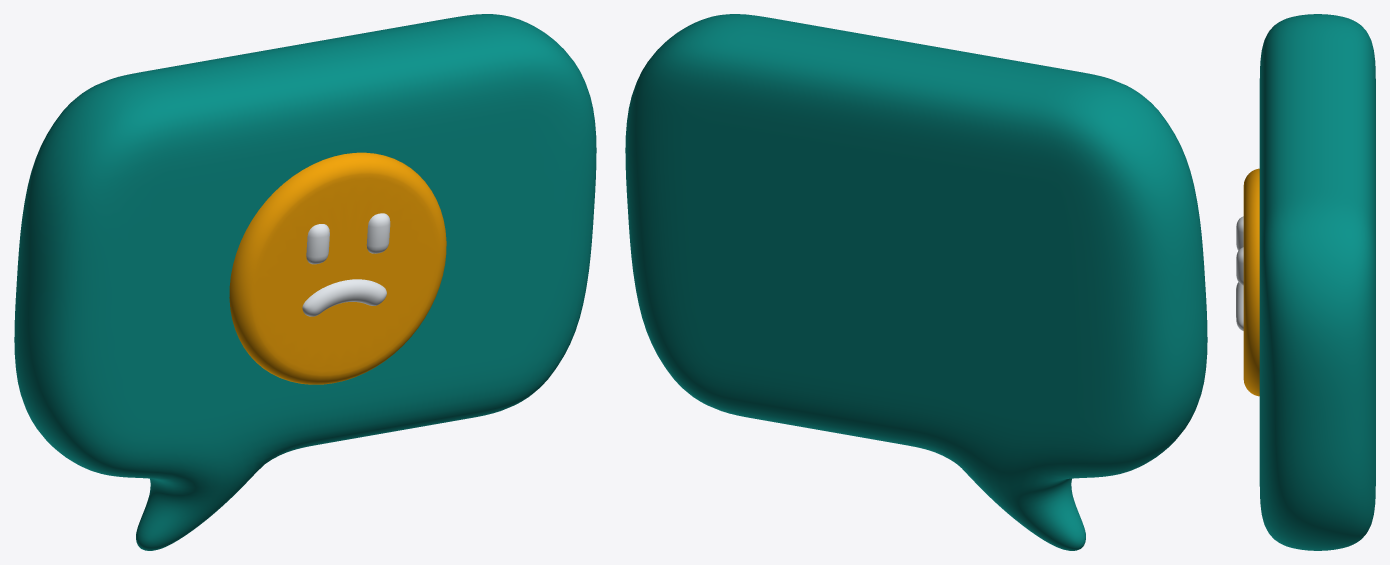
Rendered from empty-chat-bubble-3d-animated-icon-146369040441.glb.
3 renders of one model, left to right at view 1: azimuth 30°, elevation 25°; view 2: azimuth 150°, elevation 25°; view 3: azimuth 270°, elevation 25°, orthographic. The views are drawn at different scales.
Visible parts, largest first — view 1: Chat Bubble, Cylinder, Cube.002; view 2: Chat Bubble; view 3: Chat Bubble, Cylinder, Cube.002.
Part boxes in pixels (x1,y1,x2,y2): Chat Bubble: [14, 14, 596, 550]; Cylinder: [229, 152, 446, 384]; Cube.002: [302, 213, 390, 316]; Chat Bubble: [625, 14, 1207, 550]; Chat Bubble: [1259, 14, 1375, 550]; Cylinder: [1243, 168, 1259, 396]; Cube.002: [1236, 216, 1243, 330].
Bounding box in the file's own units: 0.9037 × 0.7201 × 0.2125.
